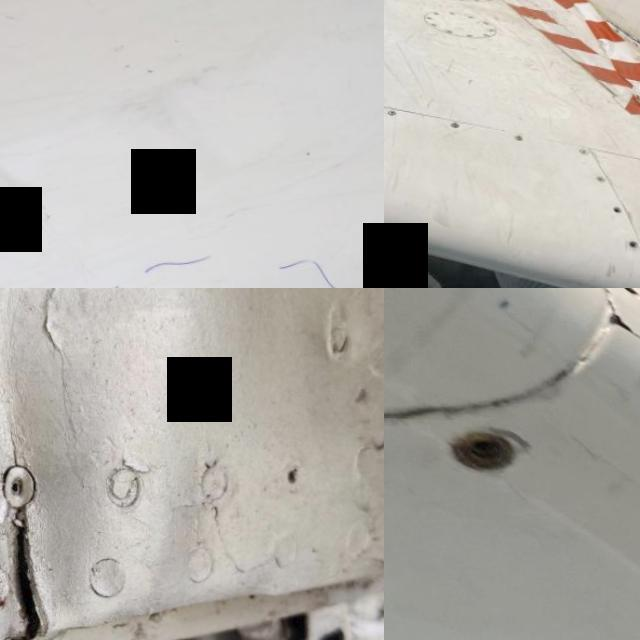Crack: (0, 480, 90, 640), (594, 8, 640, 74), (590, 304, 640, 347)
Missing_Fastener: (439, 426, 525, 473), (626, 237, 638, 246), (610, 203, 620, 211)
